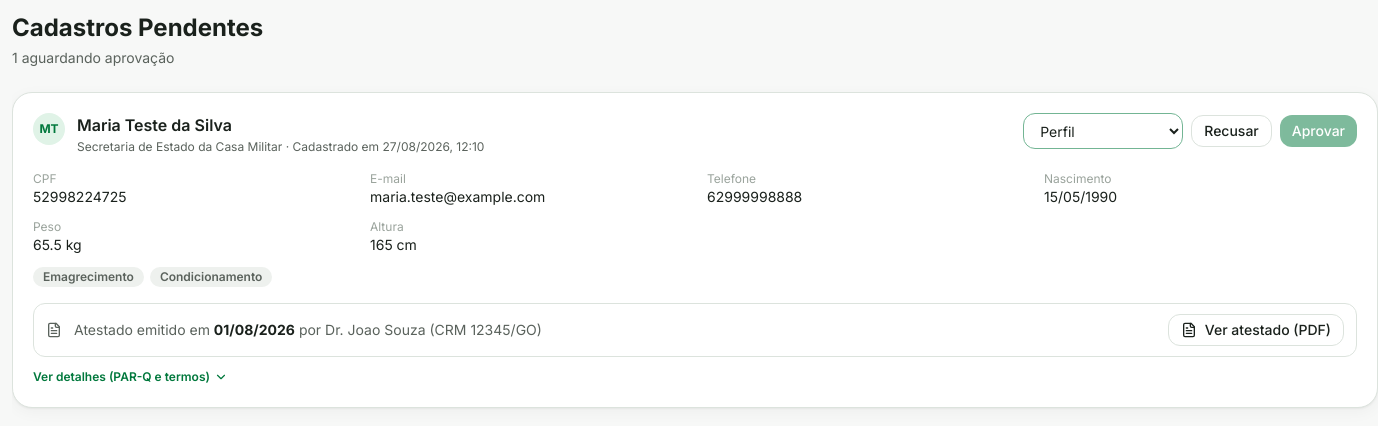
Scenario: PendingRegistrations - aprovar › exige o perfil selecionado antes de habilitar Aprovar
The width and height of the screenshot is (1378, 426).
Expected: the text "Maria Teste da Silva" is shown, x1=77 y1=113 x2=232 y2=137
Expected: the button "Aprovar" is disabled, x1=1280 y1=115 x2=1357 y2=147
Select "Aluno · Civil" in the dropdown named "Perfil" at (1103, 131), box x1=1023 y1=113 x2=1183 y2=149
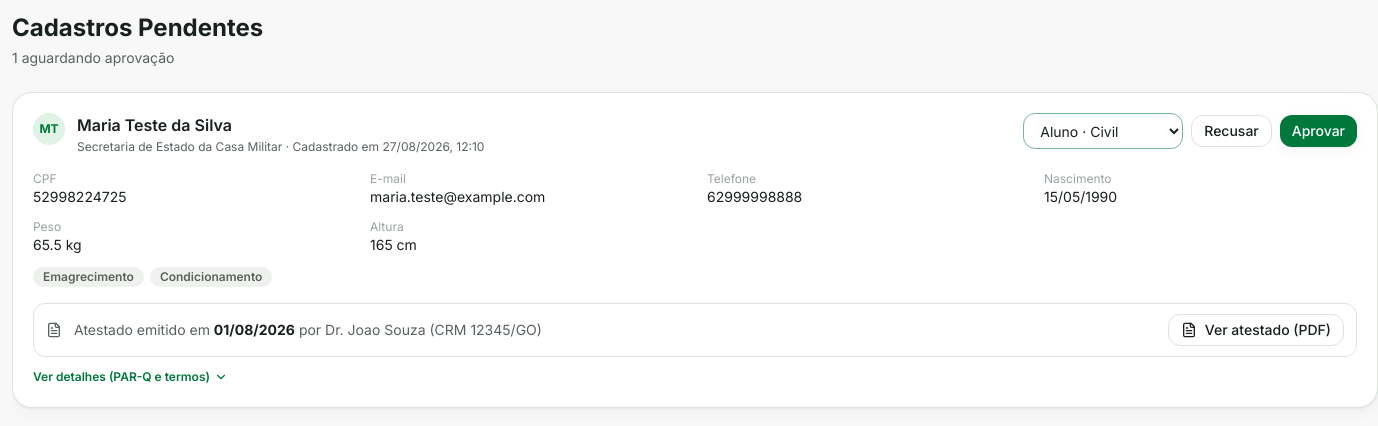
Now the button "Aprovar" is enabled, box x1=1280 y1=115 x2=1357 y2=147
